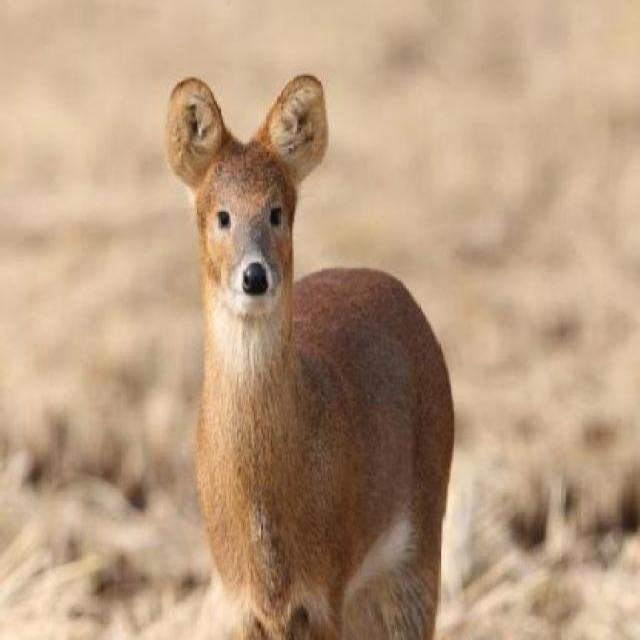deer: (162, 69, 458, 639)
